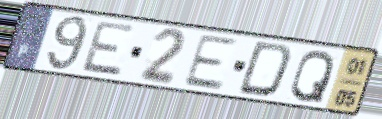2: (137, 26, 188, 87)
9: (44, 14, 91, 72)
D: (234, 40, 295, 100)
E: (180, 32, 239, 92), (79, 19, 138, 78)
Q: (288, 48, 337, 105)
